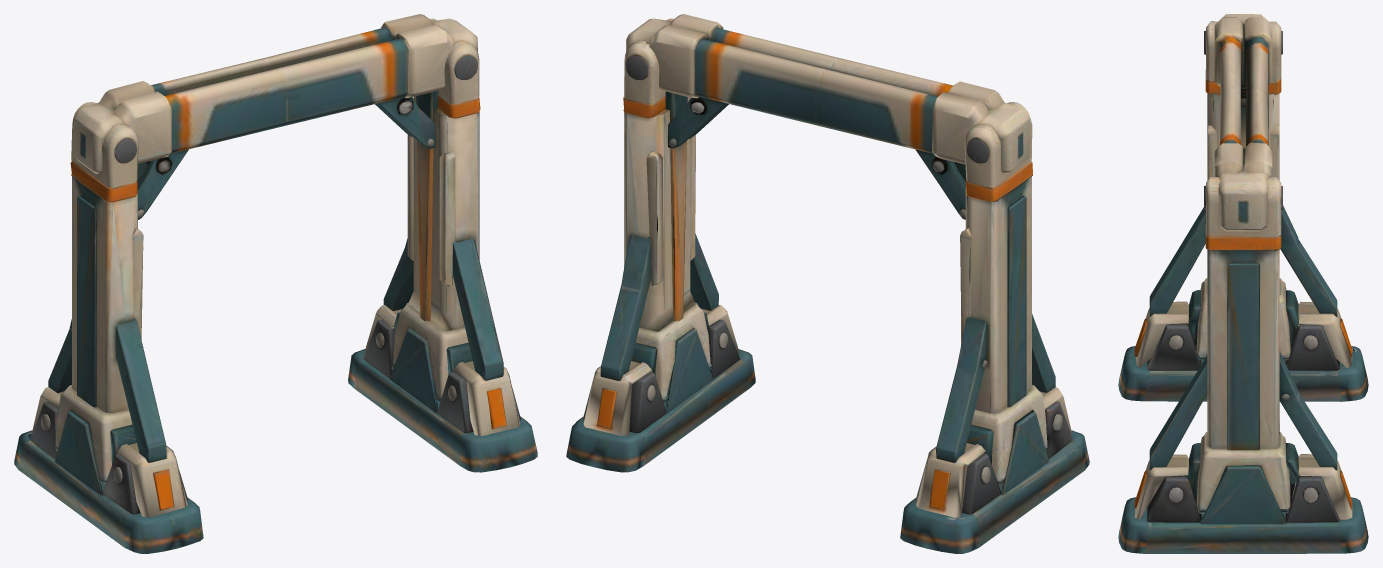
The model's file is rocket_gantry-lod0.d8d19e3b3ac7.glb.
3 renders of one model, left to right at view 1: azimuth 30°, elevation 25°; view 2: azimuth 150°, elevation 25°; view 3: azimuth 270°, elevation 25°, orthographic. The views are drawn at different scales.
Parts seen in each view (by area): view 1: geometry_0; view 2: geometry_0; view 3: geometry_0.
Part boxes in pixels (bbox=[...]): geometry_0: bbox=[14, 14, 537, 553]; geometry_0: bbox=[566, 14, 1089, 553]; geometry_0: bbox=[1118, 14, 1368, 553].
Bounding box in the file's own units: 0.9565 × 0.8926 × 0.5435.
1 material, 1 textured.
